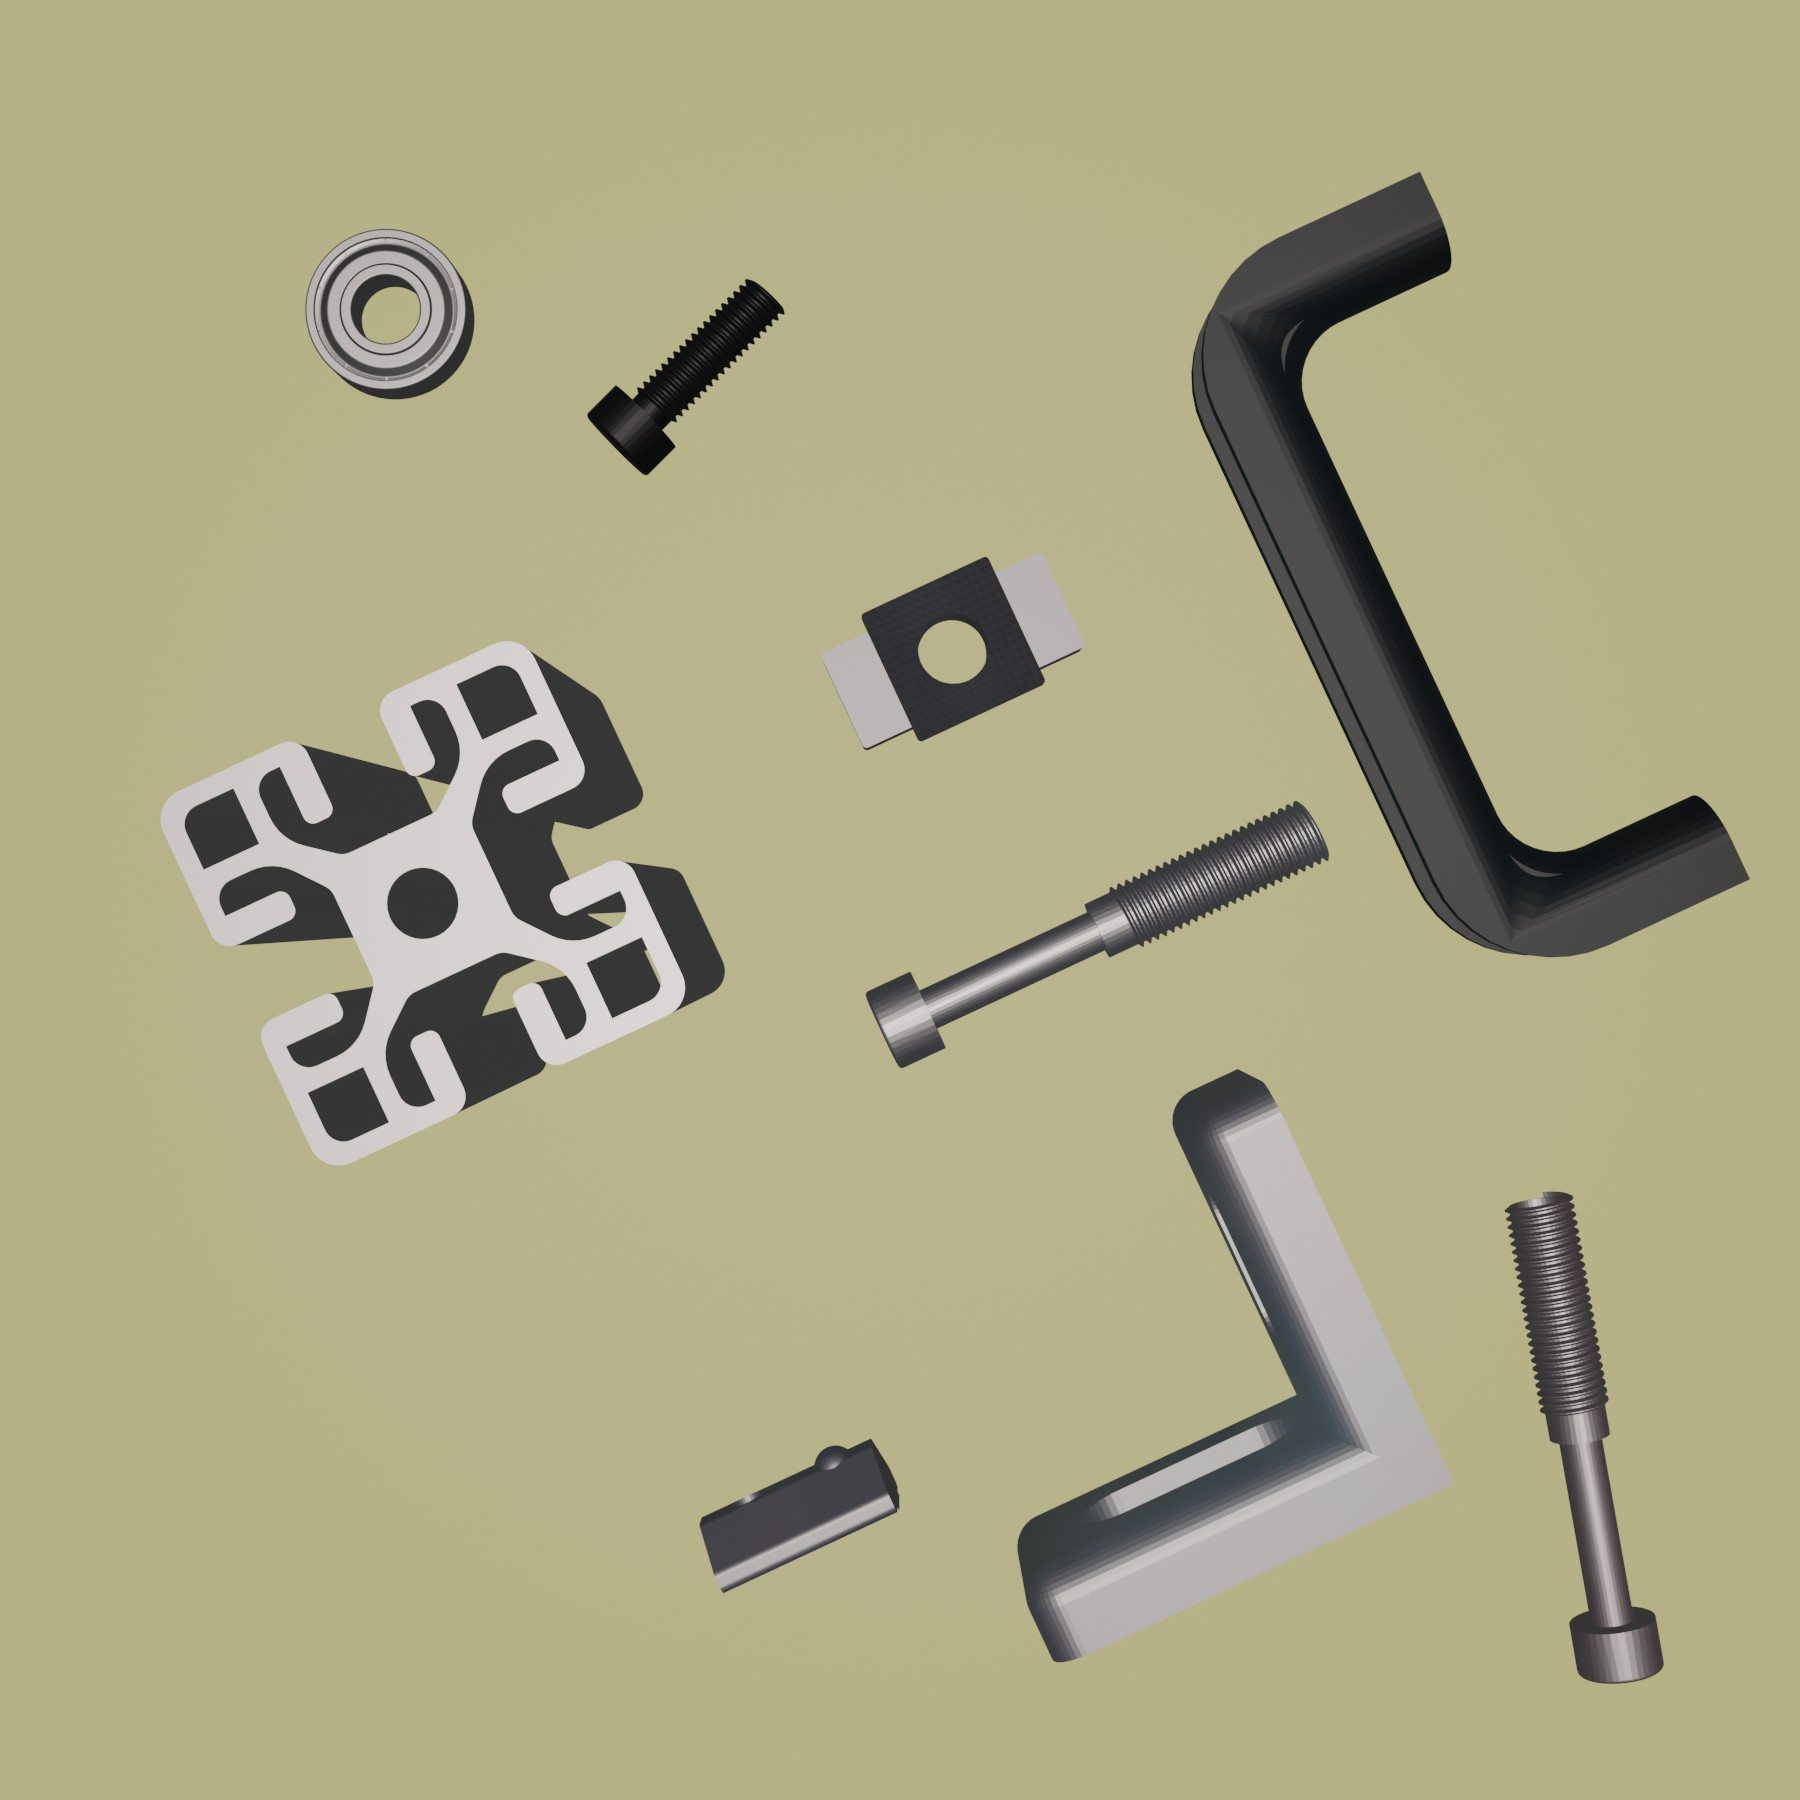Aluminium Extension: (158, 636, 727, 1170)
Ball Bearing: (302, 224, 478, 401)
Multiwinkel: (1015, 1065, 1464, 1666)
Pull Handle: (1188, 168, 1751, 959)
Shoulder Socket Head Cap Screw: (862, 796, 1334, 1073), (1502, 1188, 1666, 1686)
Socket Head Cap Screw: (585, 274, 788, 478)
T Nut Square: (814, 549, 1090, 757)
T Spring Nut: (697, 1436, 907, 1597)
